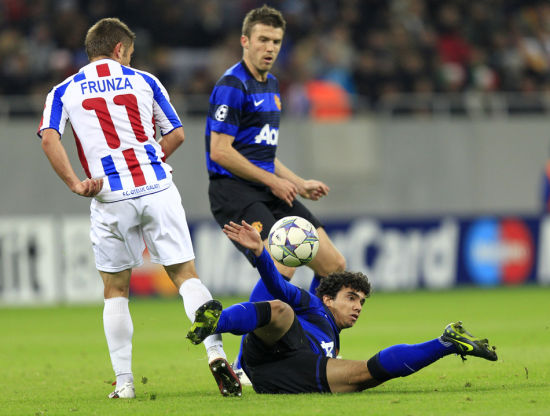10+: (3, 2, 546, 403)
down: (172, 208, 504, 398)
